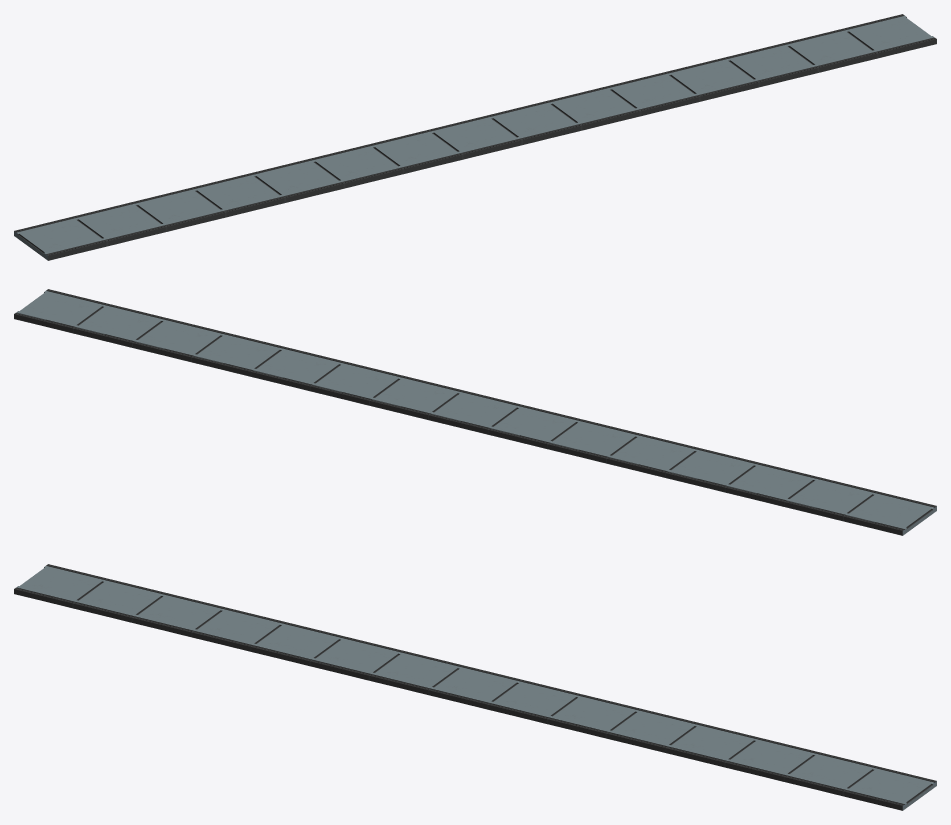
The model's file is piso completo.fbx.
3 renders of one model, top to bottom at view 1: azimuth 30°, elevation 25°; view 2: azimuth 150°, elevation 25°; view 3: azimuth 330°, elevation 25°, orthographic.
Visible parts, largest first — view 1: Cube:012; view 2: Cube:012; view 3: Cube:012.
Part boxes in pixels (x1,y1,x2,y2): Cube:012: [14, 14, 936, 260]; Cube:012: [14, 289, 936, 535]; Cube:012: [14, 564, 936, 810].
Size of the model in its own units: 43578 by 234 by 2905.
1 material, 1 textured.
